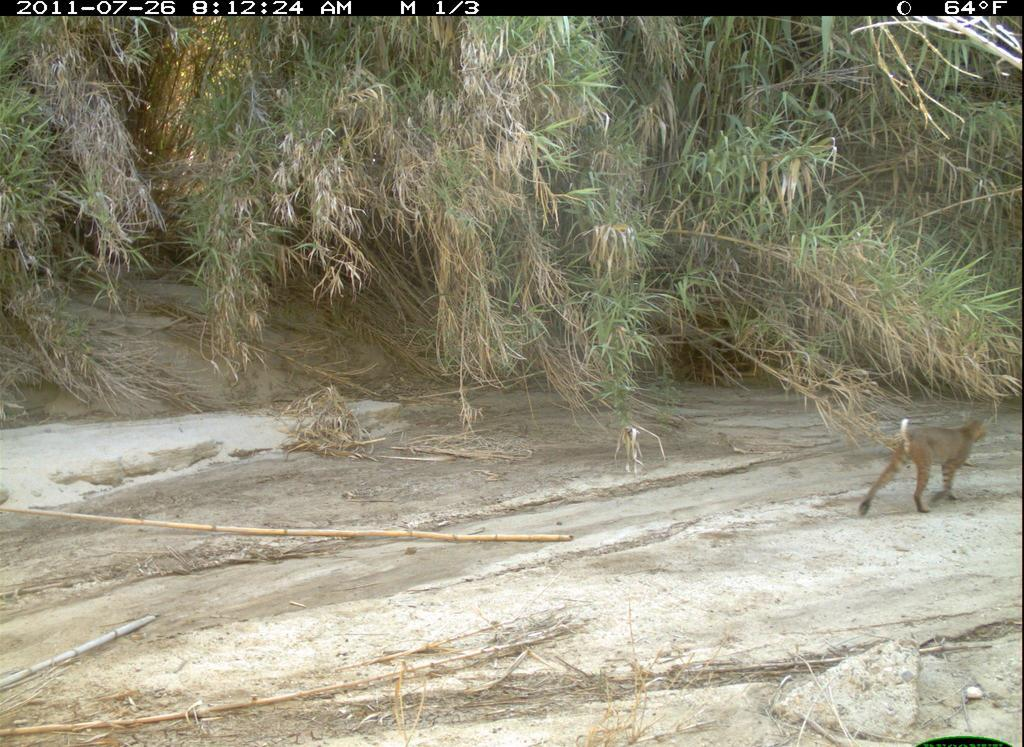bobcat: (856, 401, 998, 534)
